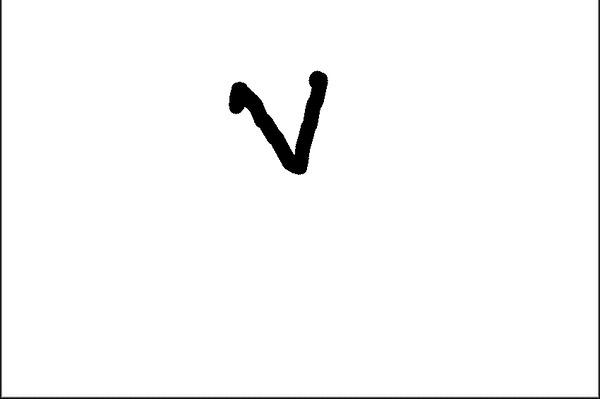V: (223, 54, 335, 185)
